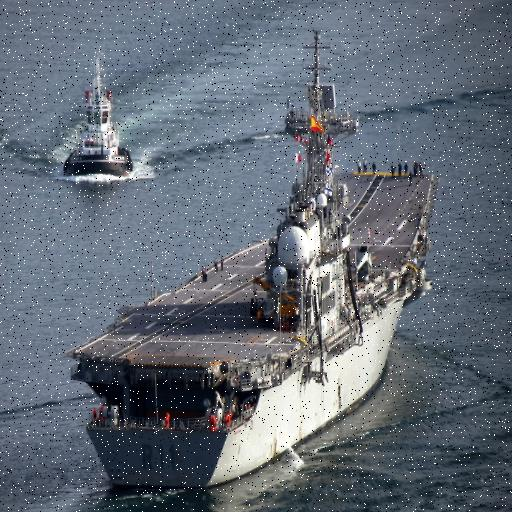Portanaves: (62, 17, 441, 499)
